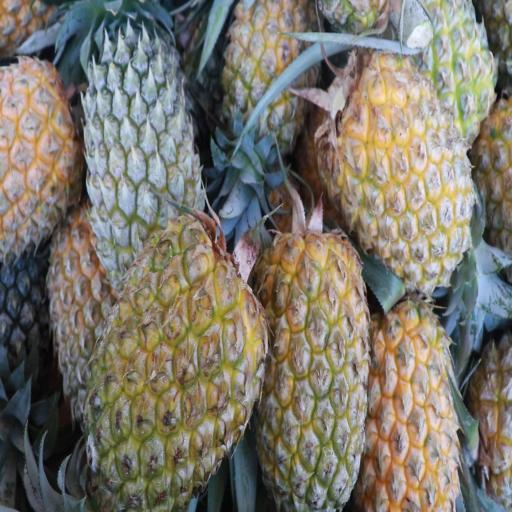------------------------------: (50, 209, 120, 408), (224, 0, 317, 149)
Pineapple - v8 v1: (92, 217, 263, 512), (257, 230, 364, 505), (340, 62, 471, 276), (366, 296, 456, 510), (0, 59, 78, 242)
